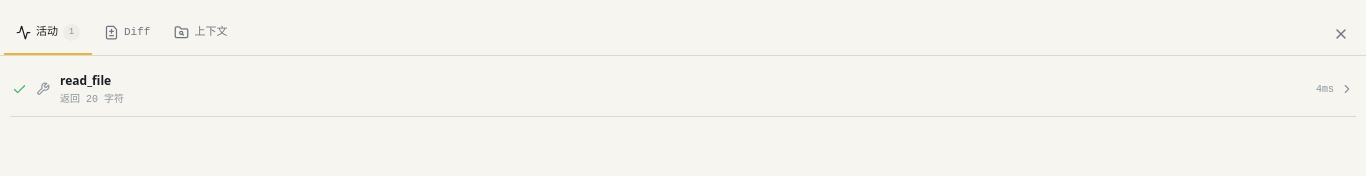
Test case: RunInspector › shows expandable tool details without discarding arguments
Click the text "read_file" at point(86, 80), box [60, 72, 111, 88]
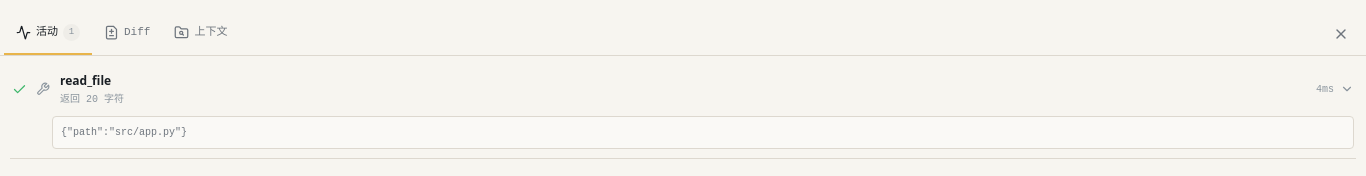
Check: the text "4ms" is shown, box [1316, 82, 1334, 96]
Check: the text "{\"path\":\"src/app.py\"}" is shown, box [52, 116, 1354, 149]
